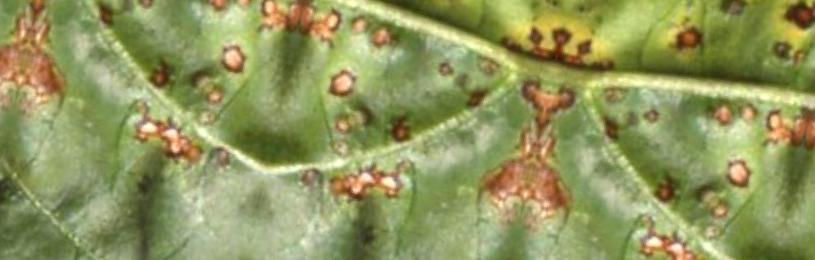Tomato Septoria leaf spot: (200, 0, 624, 260)
